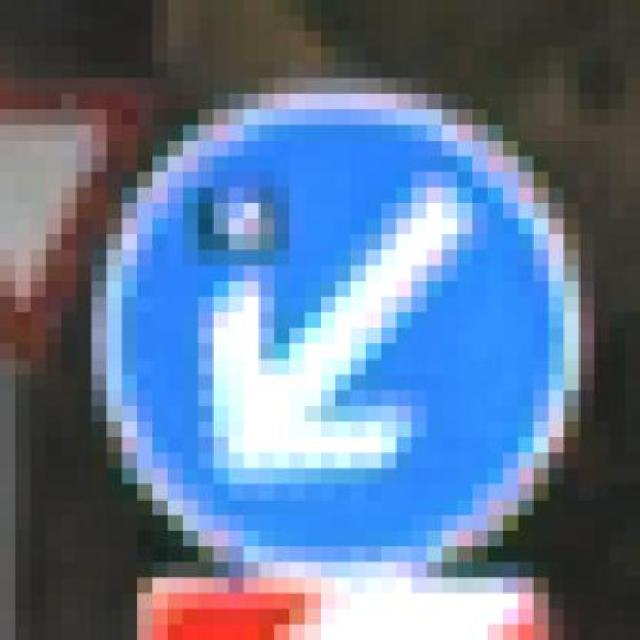Keep-Left: (61, 62, 610, 562)
